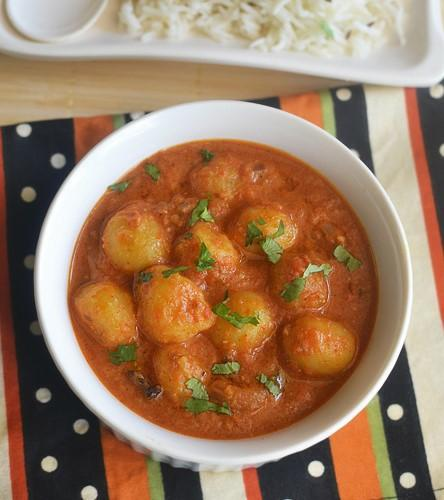DumAloo: (68, 137, 382, 442)
